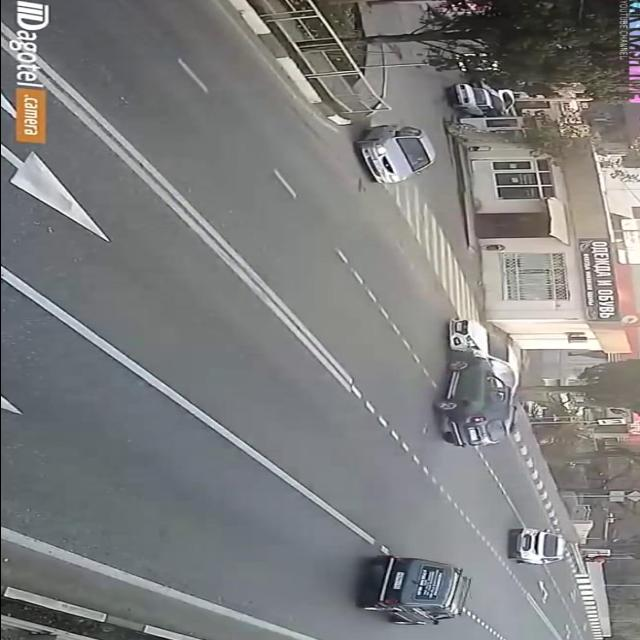accident: (432, 314, 548, 450)
